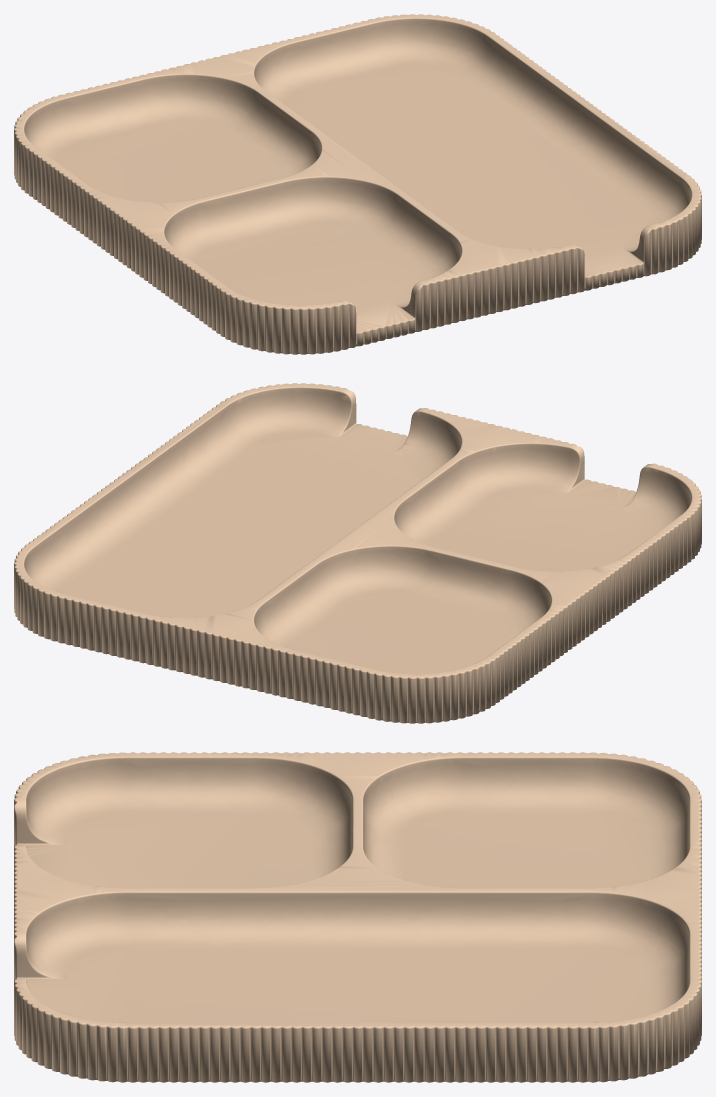
The model's file is masa-duzenleyici.glb.
The picture shows the model from 3 angles, top to bottom: view 1: azimuth 30°, elevation 25°; view 2: azimuth 150°, elevation 25°; view 3: azimuth 270°, elevation 25°; orthographic projection. The views are drawn at different scales.
Parts seen in each view (by area): view 1: Body; view 2: Body; view 3: Body.
Part boxes in pixels (bbox=[...]): Body: bbox=[14, 14, 701, 354]; Body: bbox=[14, 383, 701, 723]; Body: bbox=[14, 752, 701, 1082].
Size of the model in its own units: 0.183 by 0.017 by 0.193.
